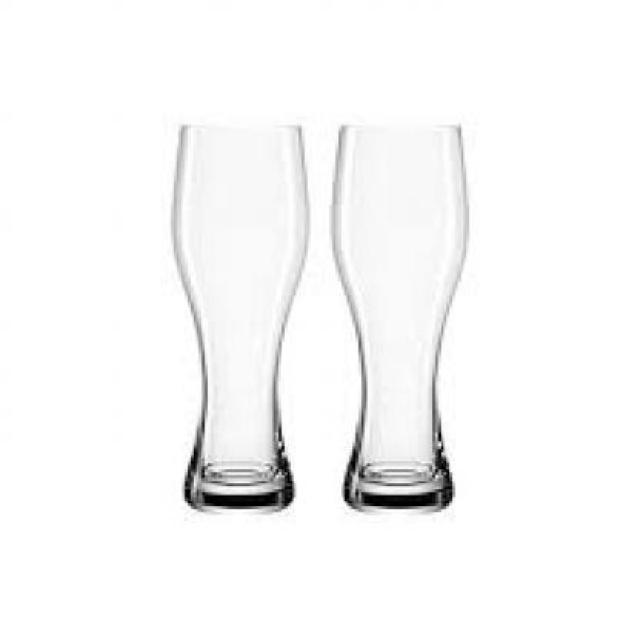kaca: (170, 120, 308, 509), (334, 122, 468, 509)
